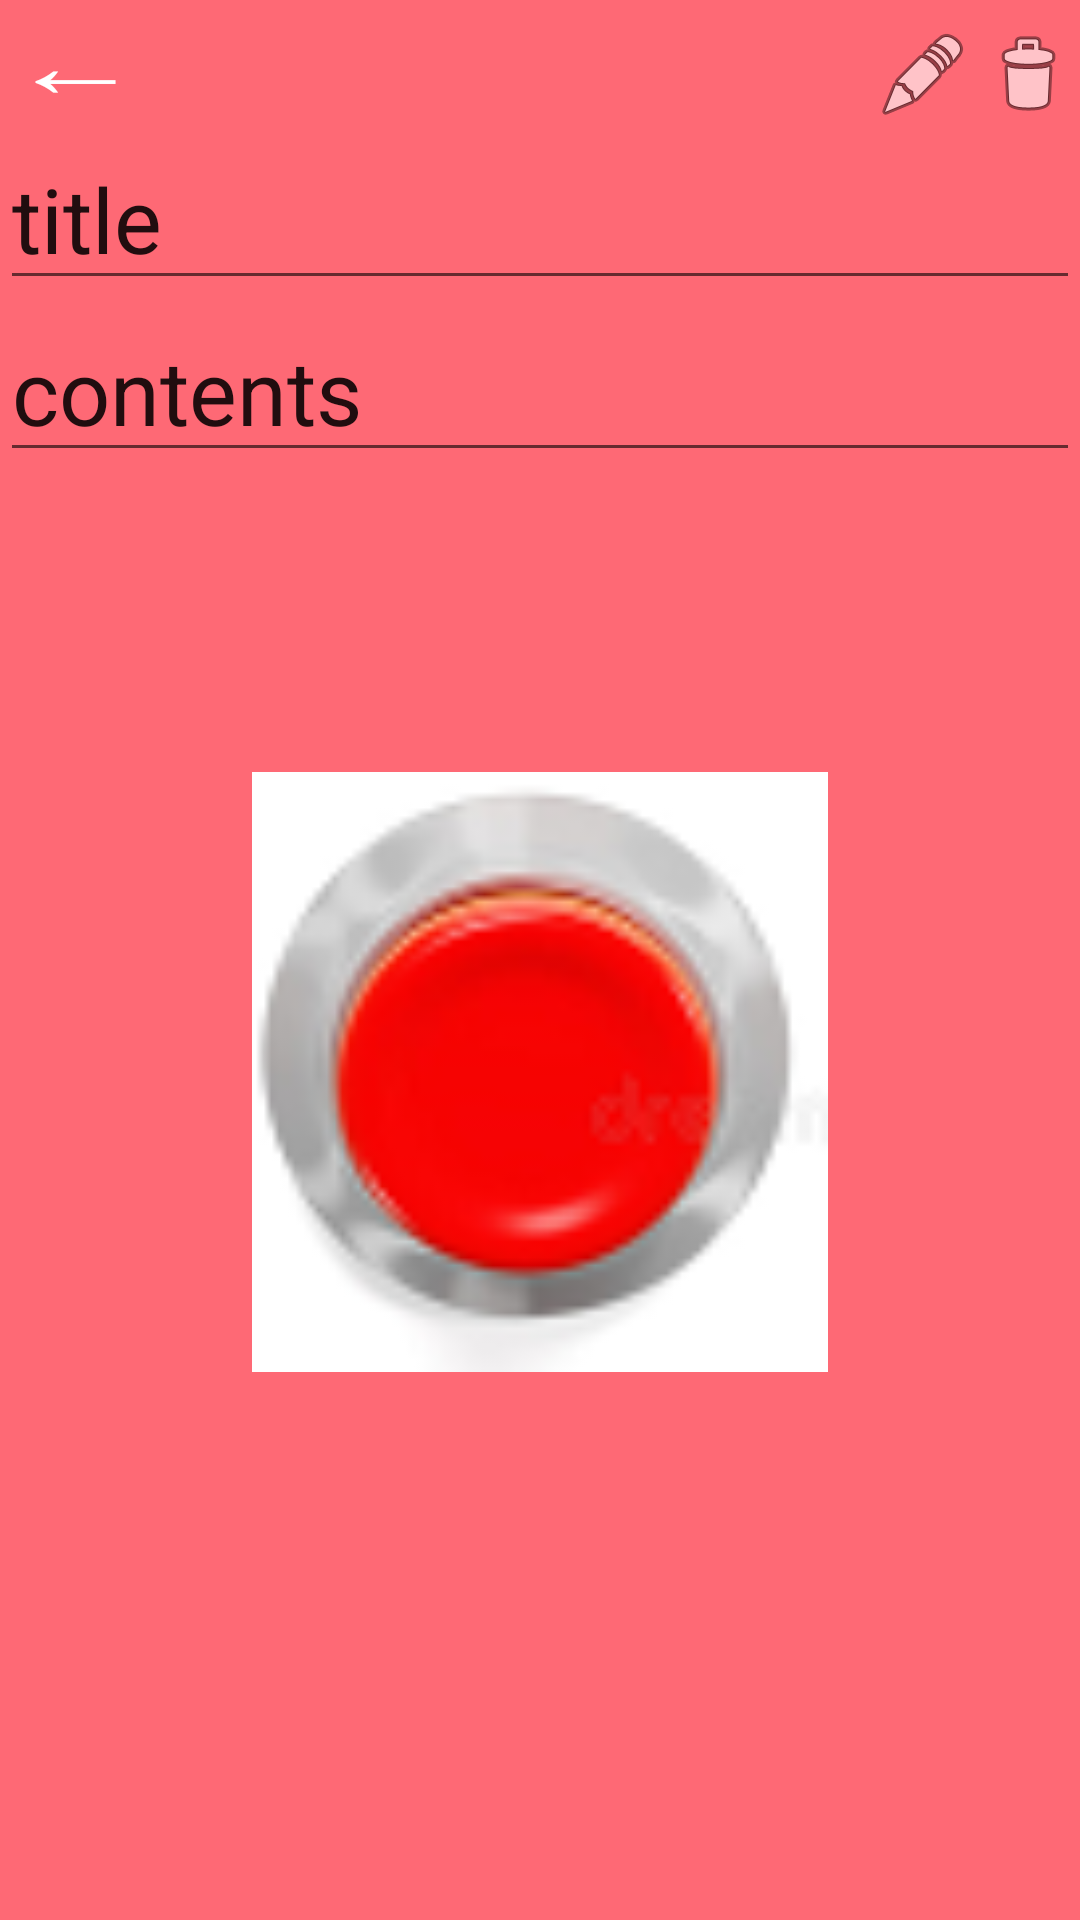

Named icons in this screenshot (1080w x 1920h) and their centers, [x,y]:
delete: [1028,73]
edit: [922,74]
